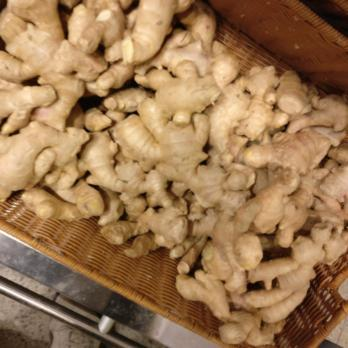Ginger: (0, 1, 221, 199), (207, 68, 348, 348)
